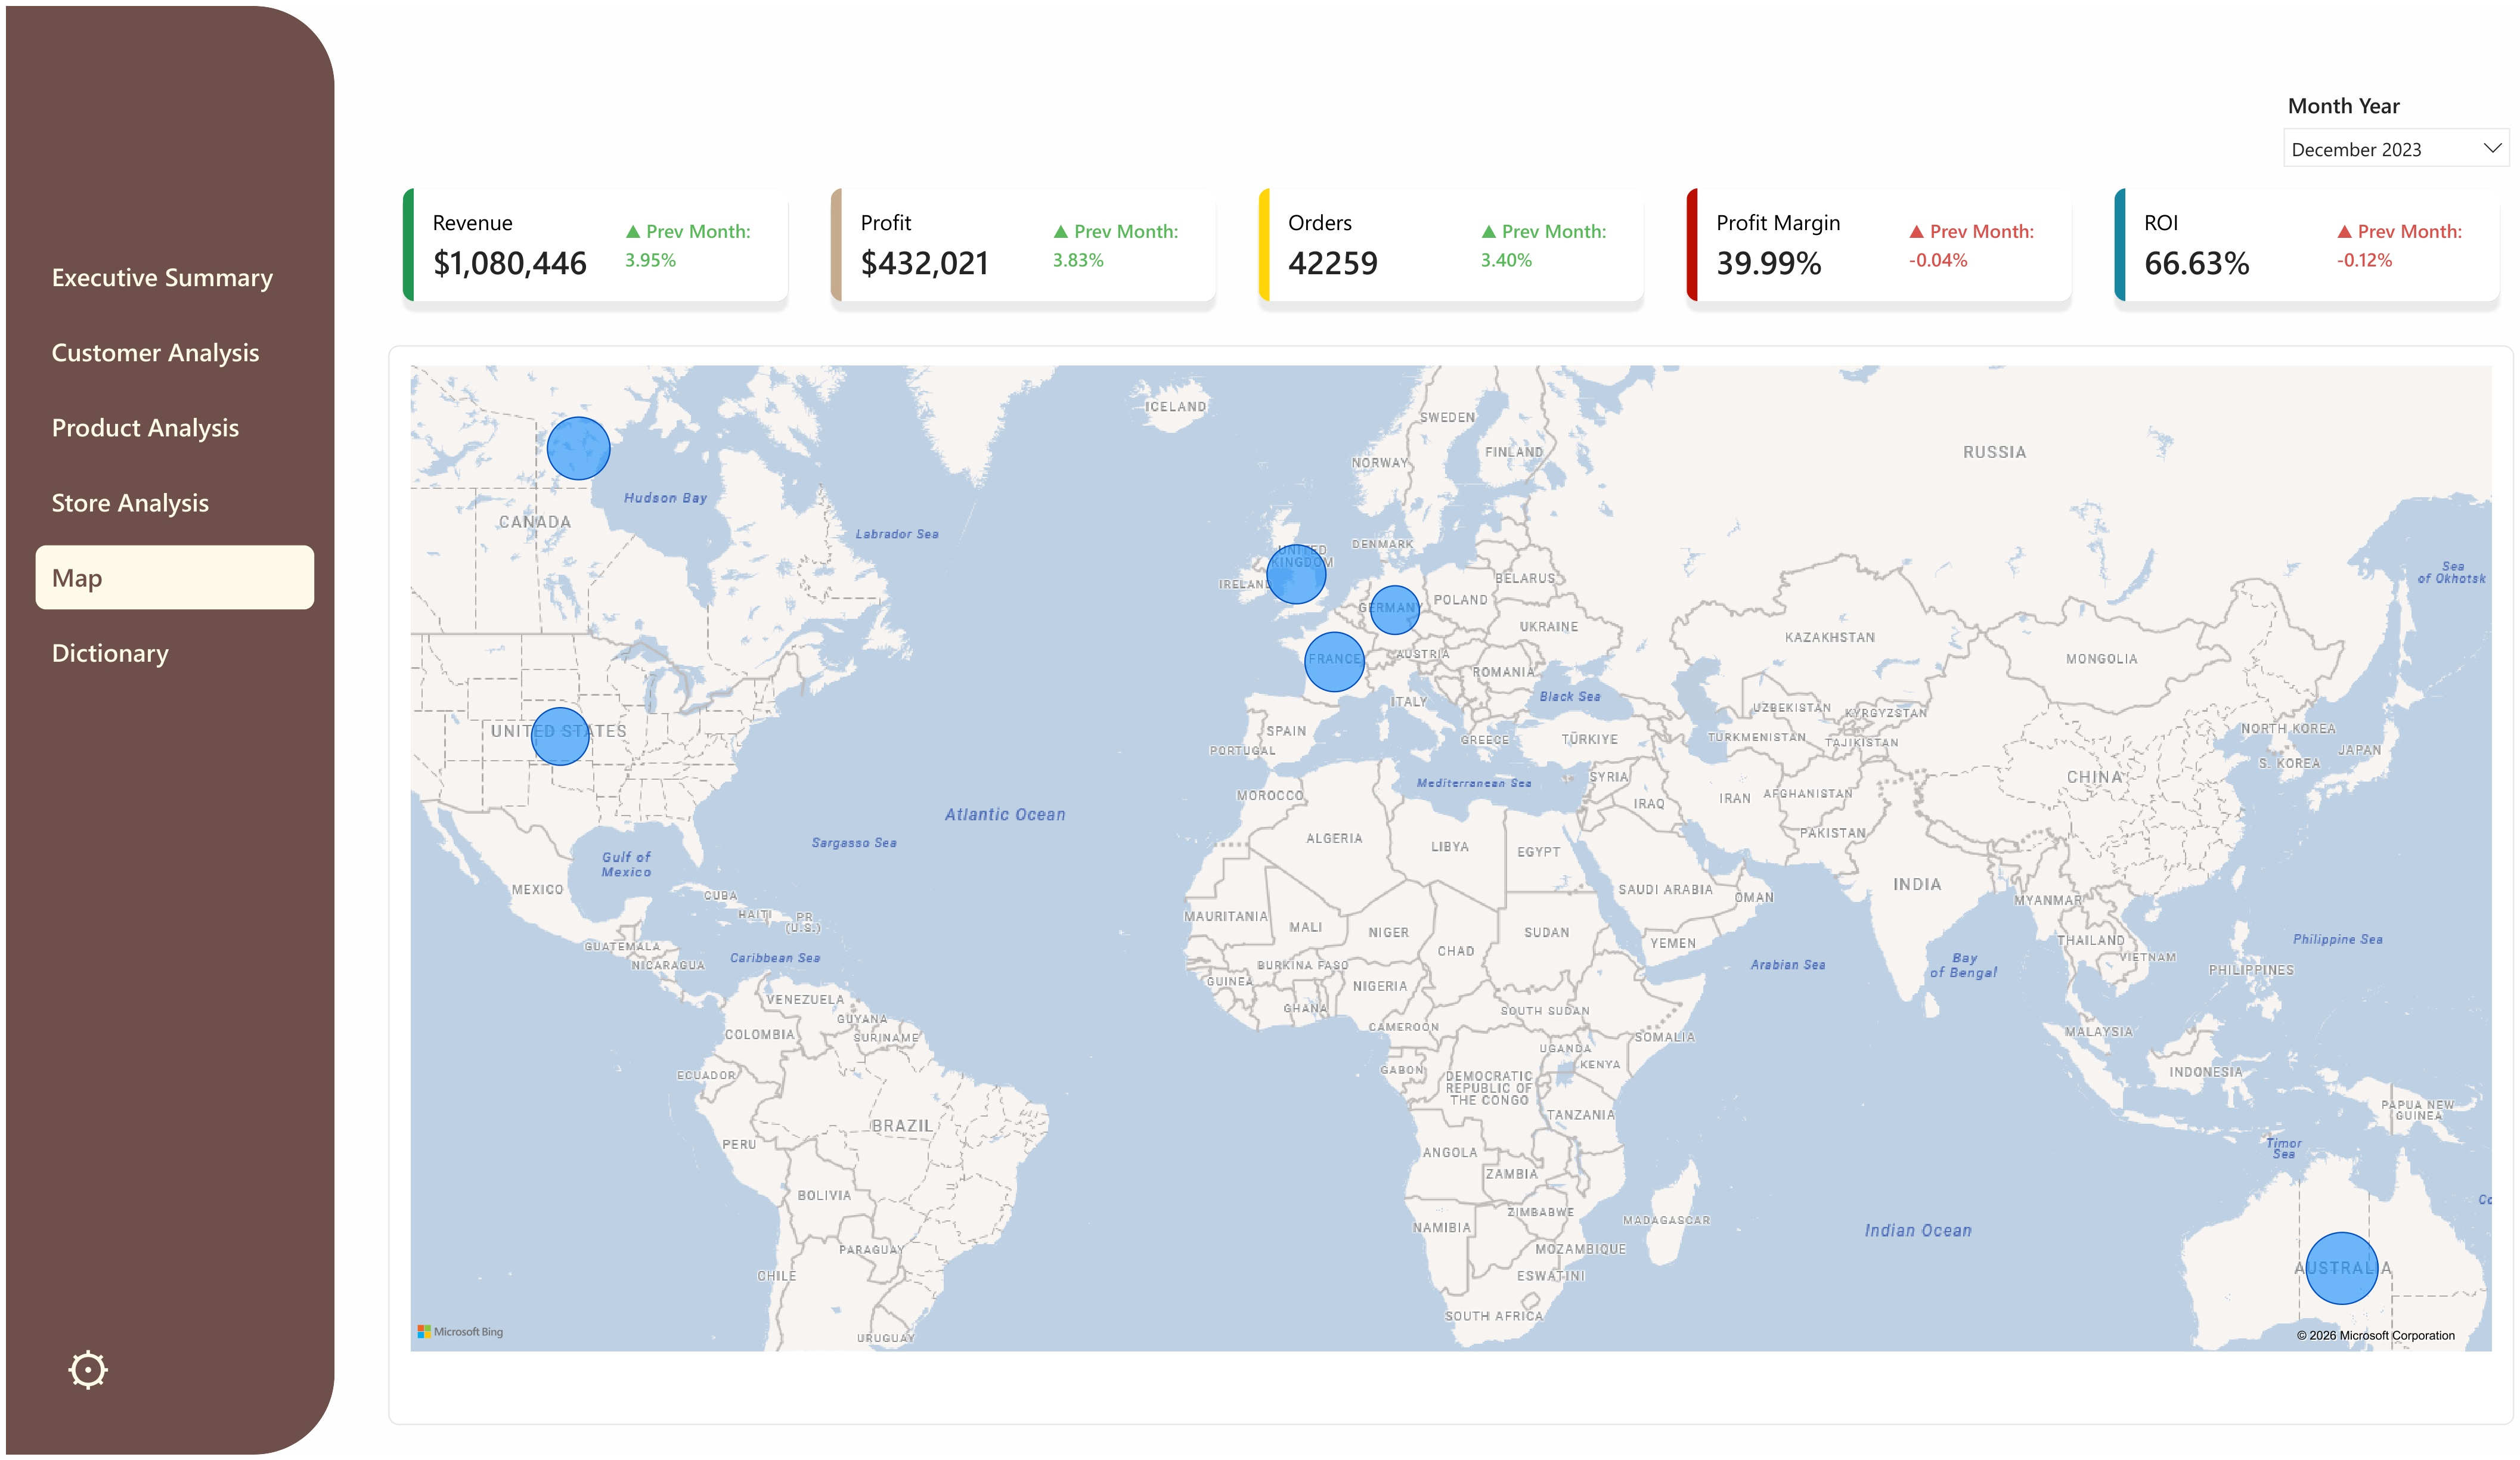

Layout of this report page (visuals, bound fields, positions):
{"tool":"powerbi","page":{"name":"Map","canvas":[1920,1080],"ordinal":1},"visuals":[{"type":"shape","box":[0,0,81.8,1079.5],"z":0},{"type":"actionButton","box":[2,752.2,81.1,75],"z":0,"group":"g1"},{"type":"map","fields":{"Category":["Territory Lookup.Country"],"Size":["Measure Table.Total Orders"]},"box":[80,94,1838,984],"z":1000},{"type":"actionButton","box":[2,827.2,81.1,75],"z":1000,"group":"g1"},{"type":"slicer","fields":{"Values":["Territory Lookup.Continent"]},"box":[80.9,14.9,1838.3,78.7],"z":2000},{"type":"actionButton","box":[2,902.2,81.1,75],"z":2000,"group":"g1"},{"type":"group","id":"g1","title":"Navigation Buttons","box":[2,752.2,81.1,296],"z":3000},{"type":"actionButton","box":[2,973.2,81.1,75],"z":3000,"group":"g1"}]}

Visuals, with their boxes on the page's 1920x1080 design canvas (x1, y1, x2, y2). These are canvas units, not pixel positions in the 2520x1460 screenshot, which may show the page scaled, cropped or inside an application window:
shape: <box>0,0,82,1080</box>
actionButton: <box>2,752,83,827</box>
map - Territory Lookup.Country x Measure Table.Total Orders: <box>80,94,1918,1078</box>
actionButton: <box>2,827,83,902</box>
slicer - Territory Lookup.Continent: <box>81,15,1919,94</box>
actionButton: <box>2,902,83,977</box>
"Navigation Buttons" group: <box>2,752,83,1048</box>
actionButton: <box>2,973,83,1048</box>
